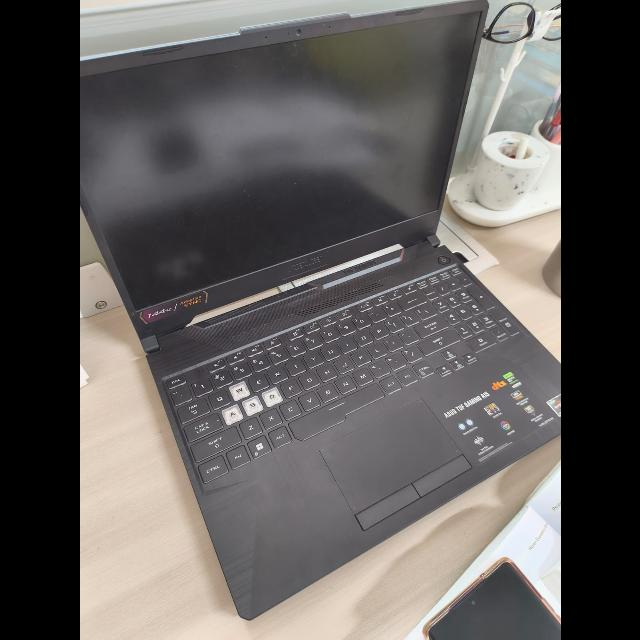laptop: (94, 0, 534, 606)
